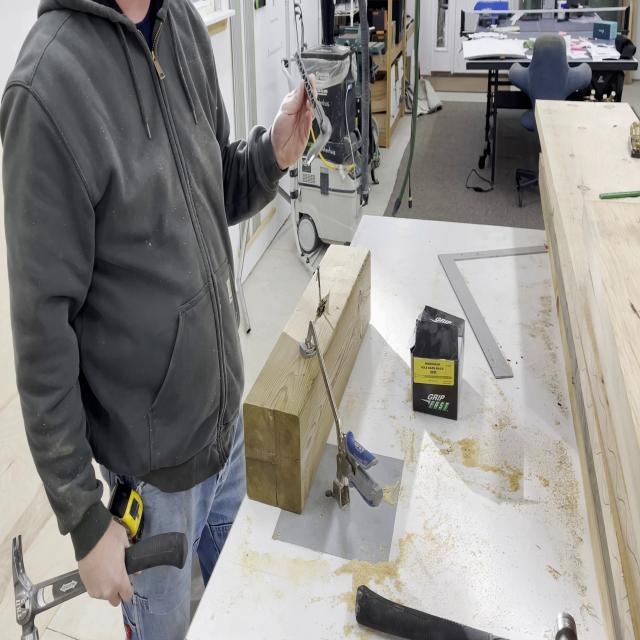hammer: (11, 531, 189, 640)
